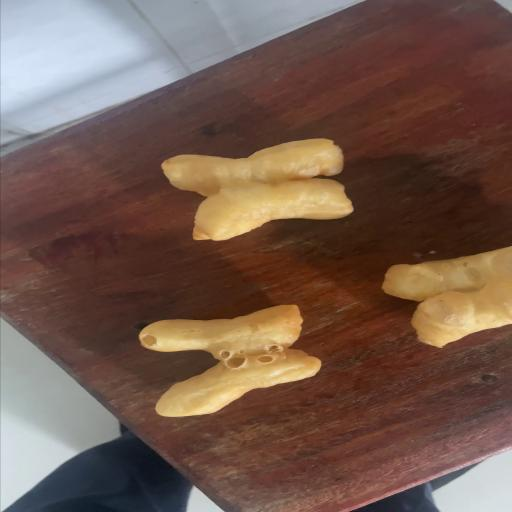street_golden_defect: (137, 306, 321, 416), (386, 246, 512, 346)
street_golden_good: (162, 140, 354, 241)
